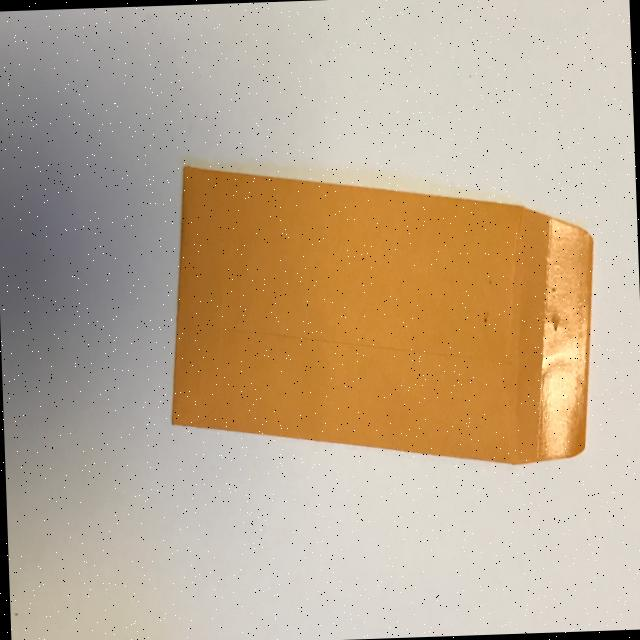paper: (161, 148, 601, 476)
